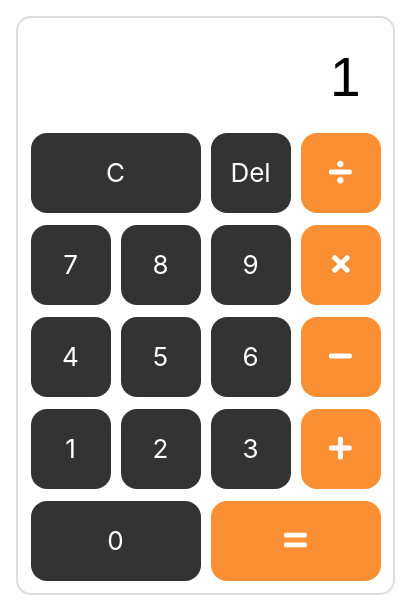
Test: result shoudld be 81 if 9 is multiplied with 9
Click the text with test id "number-click-C" at coordinates (116, 173), box [30,133,200,213]
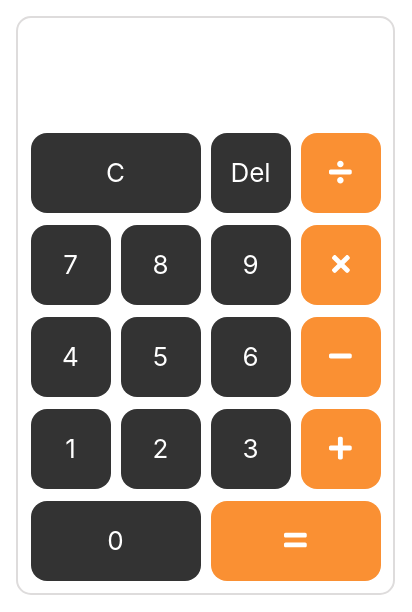
Click the text with test id "number-click-9" at coordinates (250, 265), box [210,225,290,305]
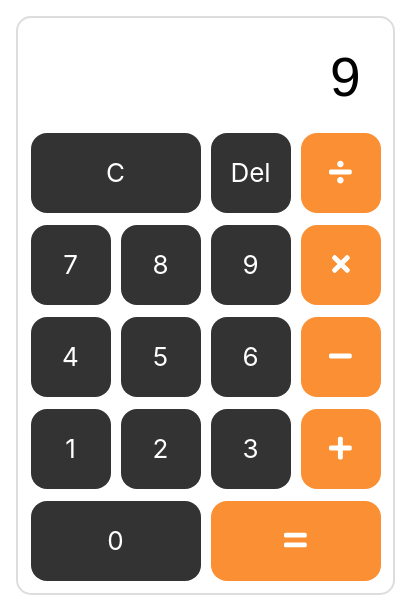
Click the element with test id "attribute-click-times" at coordinates (340, 265), box [300,225,380,305]
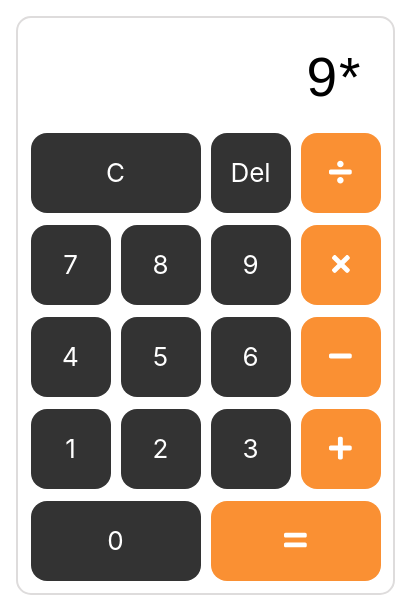
Click the text with test id "number-click-9" at coordinates (250, 265), box [210,225,290,305]
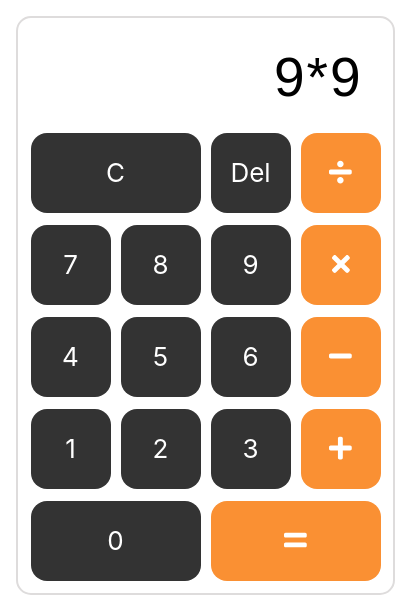
Click the element with test id "attribute-click-equals" at coordinates (296, 541), box [210,501,380,581]
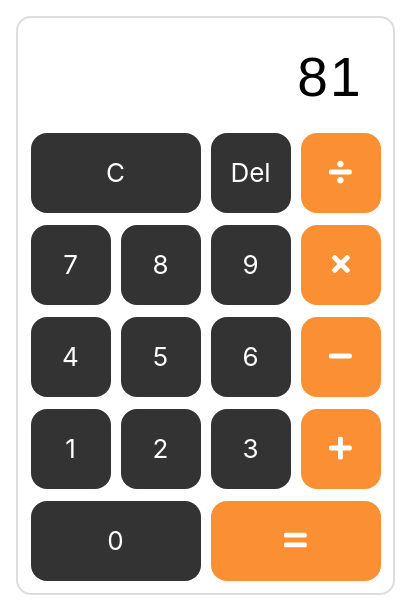
Check: the text with test id "result" reads "81", box [297,46,362,108]
